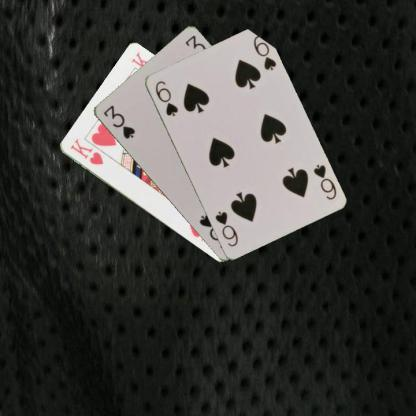3s: (100, 102, 136, 140)
6s: (310, 161, 338, 201), (152, 78, 179, 118)
Kh: (67, 136, 105, 166)
